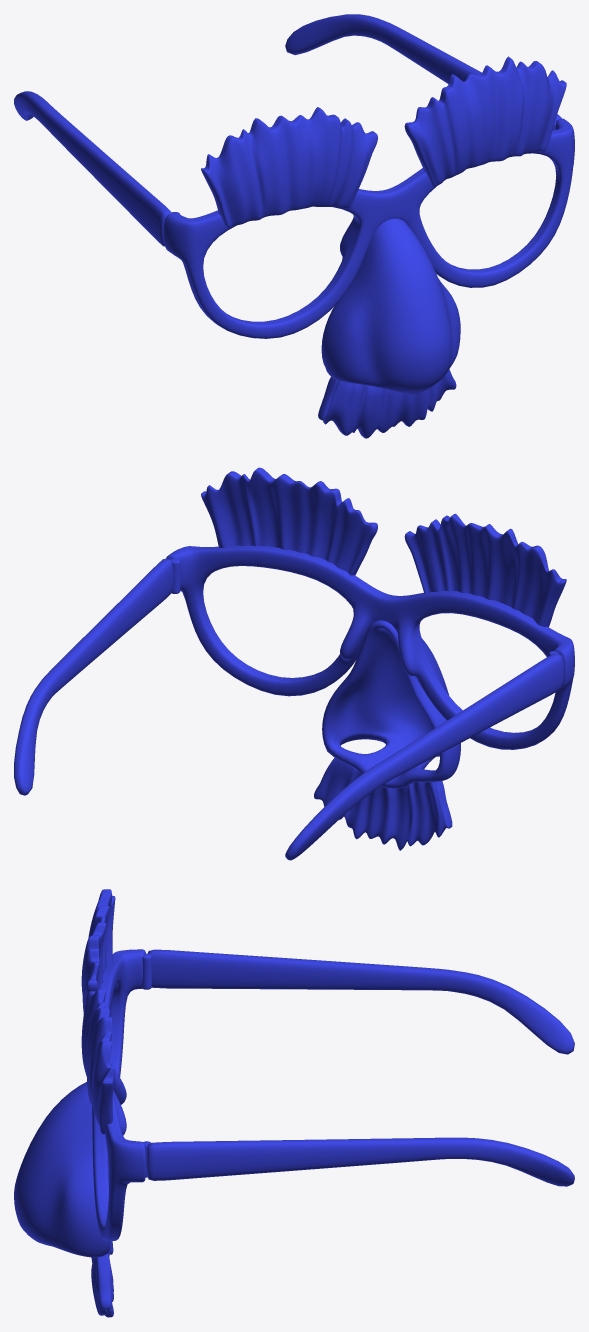
File: Groucho.glb
3 views of the same model, one above another, from view 1: azimuth 30°, elevation 25°; view 2: azimuth 150°, elevation 25°; view 3: azimuth 270°, elevation 25° (orthographic).
Visible parts, largest first — view 1: 17891_Groucho_Glasses_v1; view 2: 17891_Groucho_Glasses_v1; view 3: 17891_Groucho_Glasses_v1.
Boxes of the visible parts, x1,y1,x2,y2 form: 17891_Groucho_Glasses_v1: (14,14,574,438); 17891_Groucho_Glasses_v1: (14,467,574,860); 17891_Groucho_Glasses_v1: (14,889,574,1317).
Bounding box in the file's own units: 5.2 × 4.25 × 6.16.
